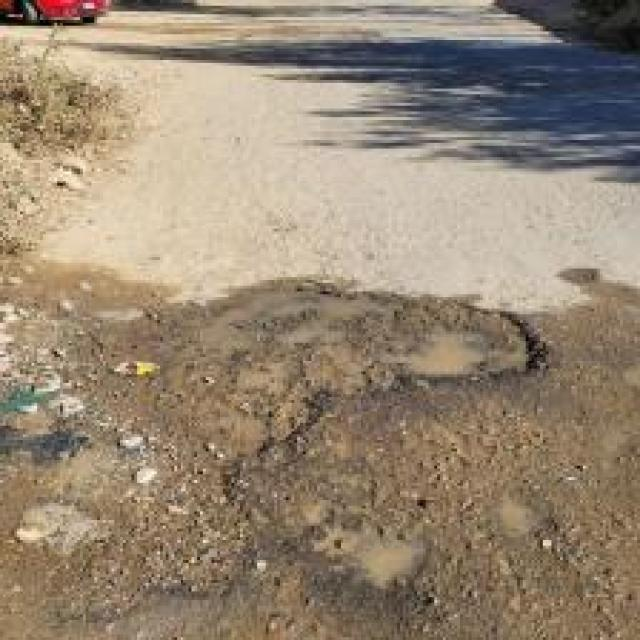BACHE: (154, 286, 371, 457), (382, 301, 534, 389), (309, 513, 426, 584)
PIEL DE COCODRILO: (203, 131, 434, 280)
